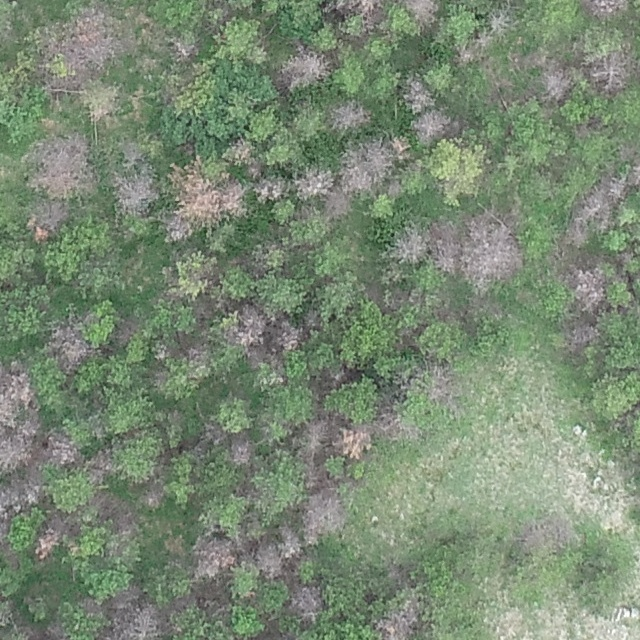unhealthy: (45, 2, 123, 76), (26, 129, 98, 199), (463, 211, 521, 285), (569, 174, 626, 238), (275, 44, 328, 92), (175, 161, 221, 216), (108, 600, 168, 640), (299, 490, 345, 541), (46, 318, 92, 369), (586, 46, 634, 94), (0, 414, 39, 473), (517, 513, 578, 550), (0, 355, 34, 417), (192, 535, 238, 579), (375, 598, 423, 640), (26, 200, 72, 243), (112, 171, 159, 213), (568, 266, 608, 313), (430, 220, 461, 275), (229, 304, 267, 347), (285, 580, 322, 623), (324, 101, 371, 134), (409, 109, 455, 142), (42, 431, 81, 468), (392, 224, 427, 264), (293, 162, 334, 194), (400, 76, 435, 112), (563, 320, 601, 352), (541, 65, 573, 103), (300, 416, 331, 455), (222, 177, 251, 218), (455, 32, 489, 65), (339, 425, 373, 458), (249, 540, 276, 580), (321, 0, 379, 18), (33, 523, 61, 560), (427, 368, 456, 403), (278, 523, 305, 560), (162, 212, 194, 243), (403, 0, 441, 26), (87, 447, 116, 481), (224, 137, 256, 167), (577, 0, 627, 18), (323, 188, 352, 219), (340, 164, 372, 192), (275, 322, 304, 352), (228, 436, 255, 467), (0, 480, 20, 520), (253, 178, 286, 202), (23, 478, 50, 506), (374, 411, 401, 437), (170, 38, 198, 63), (487, 9, 513, 34), (388, 134, 411, 161), (144, 483, 166, 508), (16, 621, 46, 639), (40, 621, 70, 639), (628, 161, 640, 189)
